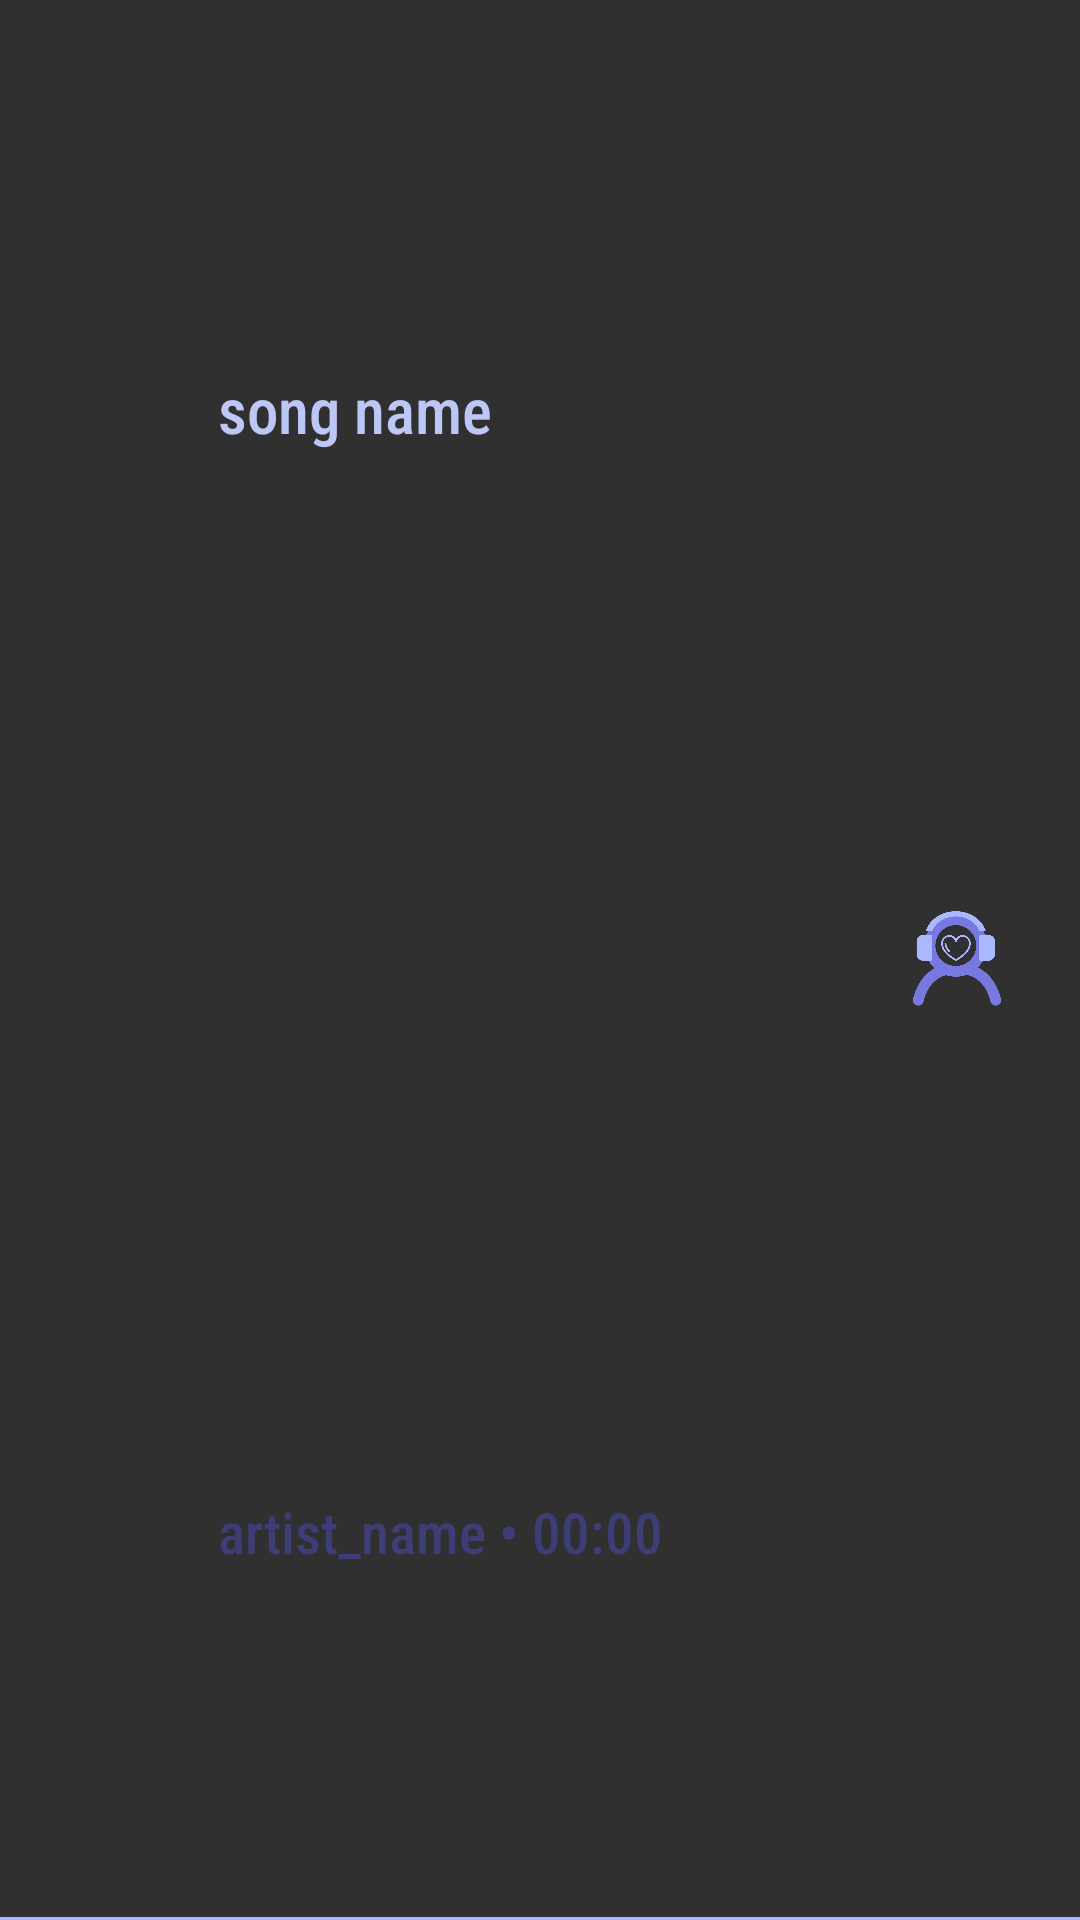

Named icons in this screenshot (1080px×1920px) and their bounding boxes, region(x1, y1, x2, y2):
liked user: region(913, 911, 1001, 1006)
